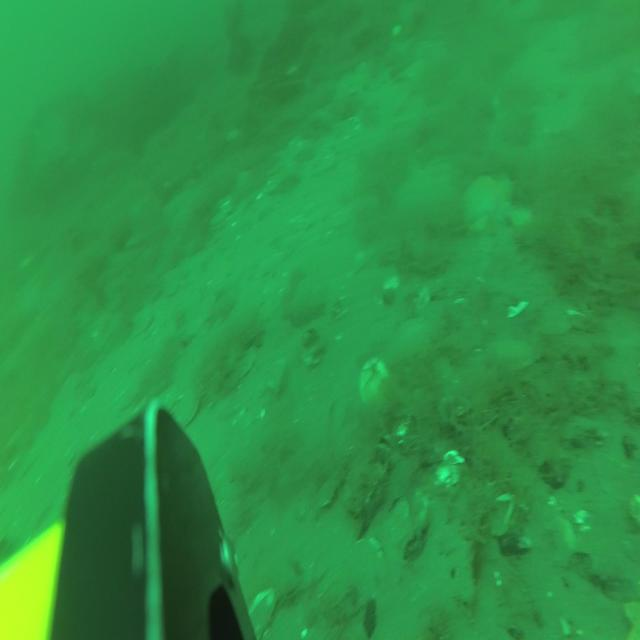scallop: (246, 584, 275, 636), (359, 358, 389, 407), (174, 388, 198, 426), (209, 212, 226, 232)
starfish: (459, 170, 514, 229)
